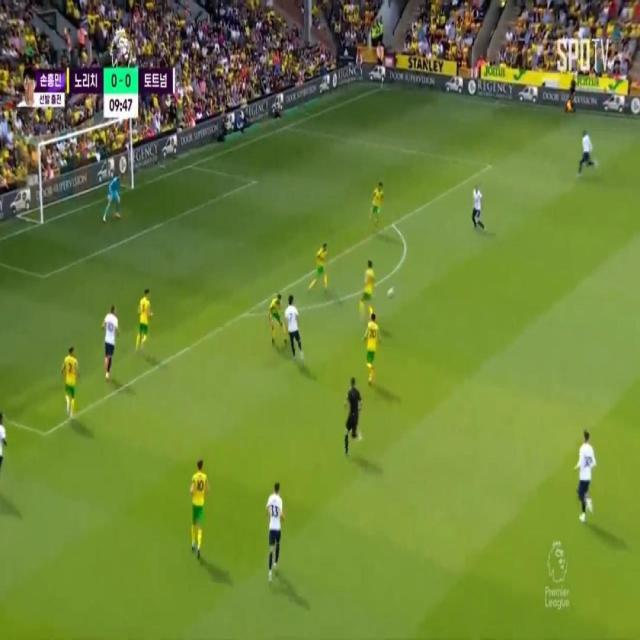ball: (384, 281, 396, 309)
player: (575, 431, 598, 523), (265, 479, 284, 576), (191, 457, 208, 555), (364, 313, 380, 387), (63, 343, 78, 421), (285, 297, 303, 357), (103, 305, 117, 380), (136, 291, 152, 352), (577, 127, 599, 171), (314, 241, 330, 295), (270, 291, 284, 345), (469, 185, 486, 228), (364, 259, 373, 316), (373, 179, 383, 220), (0, 416, 7, 471)
referee: (340, 381, 368, 456)
